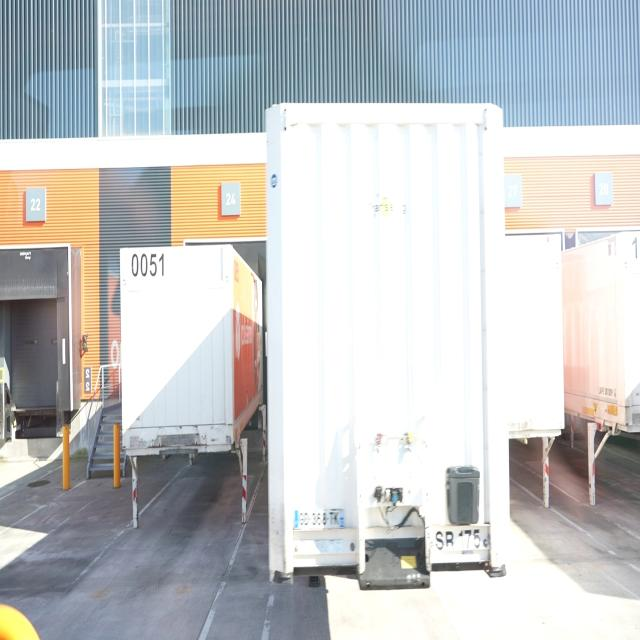Code: (128, 250, 168, 281)
